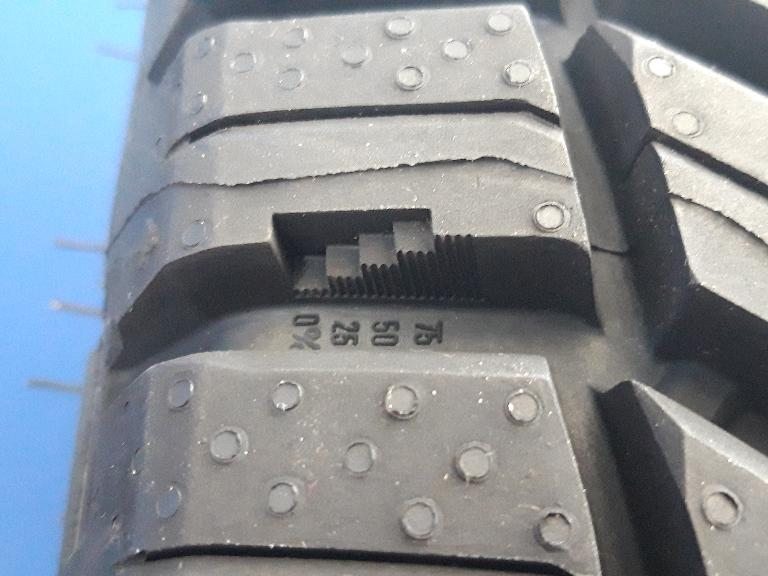temoin:100: (261, 201, 489, 324)
